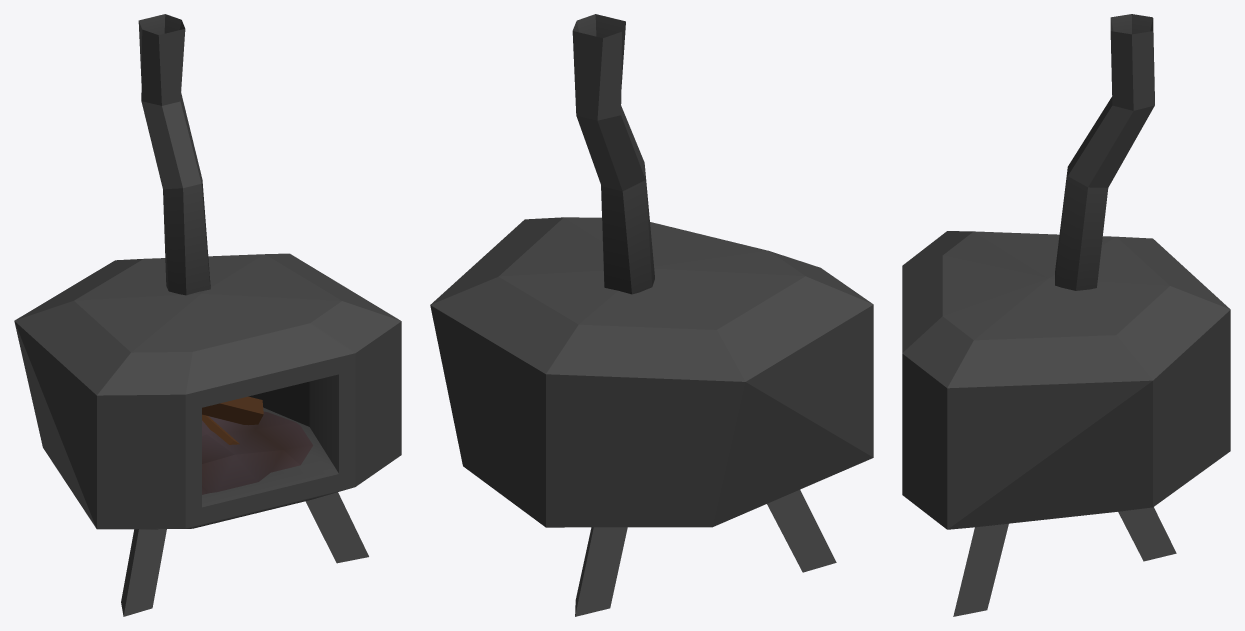
File: Furnace.glb
3 renders of one model, left to right at view 1: azimuth 30°, elevation 25°; view 2: azimuth 150°, elevation 25°; view 3: azimuth 270°, elevation 25°, orthographic. The views are drawn at different scales.
Parts seen in each view (by area): view 1: Cylinder, Plane, Cylinder.002, Cylinder.003, Cylinder.005; view 2: Cylinder, Cylinder.001, Cylinder.002; view 3: Cylinder, Cylinder.003, Cylinder.001.
Boxes of the visible parts, x1=… form: Cylinder: x1=14, y1=14, x2=401, y2=529; Plane: x1=202, y1=411, x2=312, y2=494; Cylinder.002: x1=121, y1=529, x2=166, y2=616; Cylinder.003: x1=305, y1=492, x2=368, y2=563; Cylinder.005: x1=202, y1=396, x2=263, y2=425; Cylinder: x1=430, y1=14, x2=873, y2=527; Cylinder.001: x1=575, y1=527, x2=627, y2=616; Cylinder.002: x1=767, y1=489, x2=836, y2=572; Cylinder: x1=902, y1=14, x2=1230, y2=529; Cylinder.003: x1=953, y1=523, x2=1008, y2=616; Cylinder.001: x1=1118, y1=507, x2=1176, y2=561.
Size of the model in its own units: 1.8 by 2.83 by 1.59.
